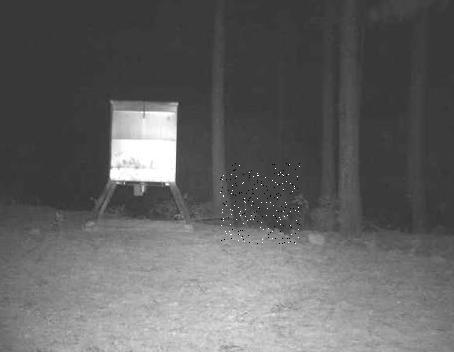Hog: (220, 163, 300, 244)
